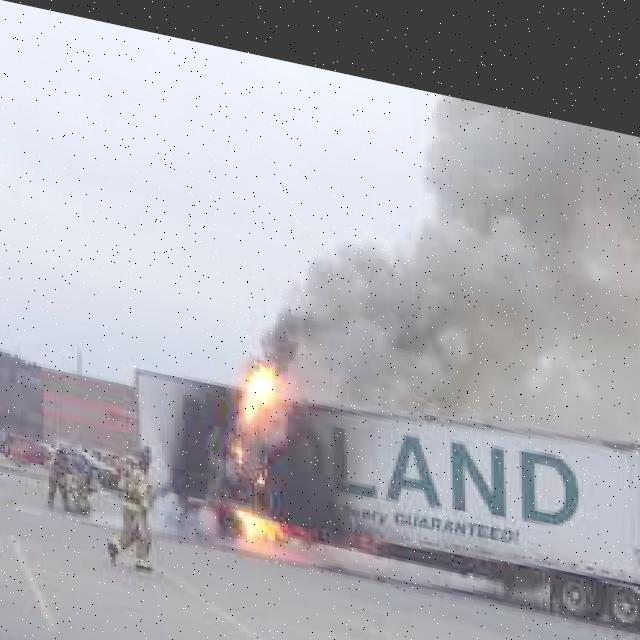Fire: (206, 333, 330, 560)
